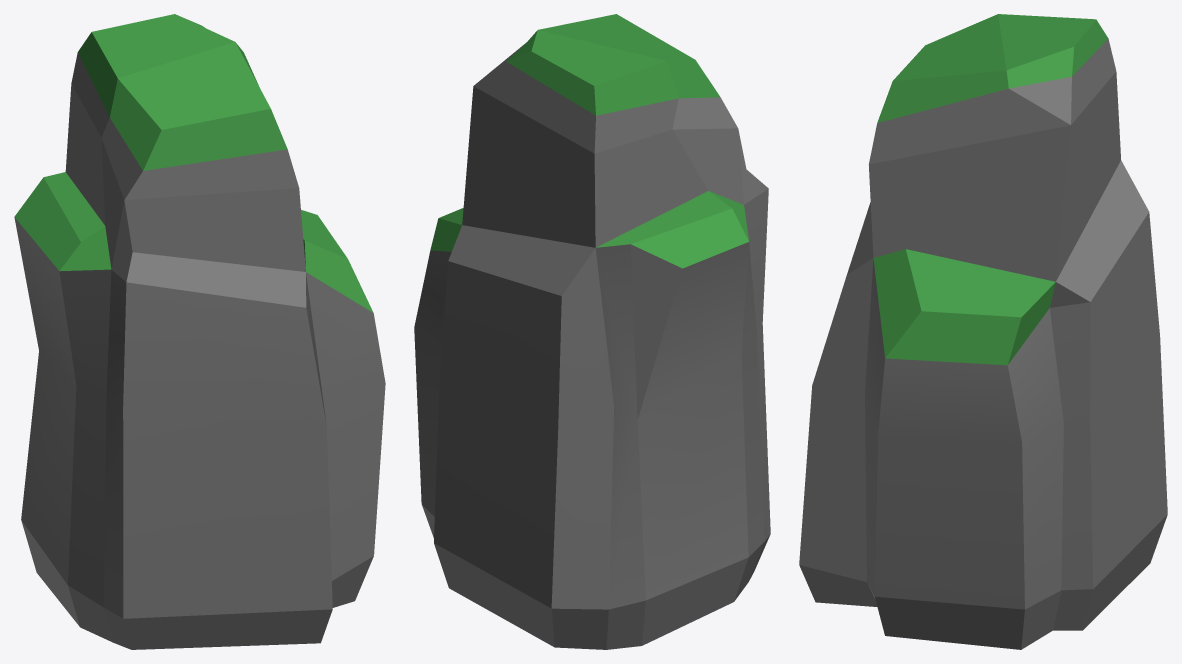
Rendered from Rock_A.fbx.
3 renders of one model, left to right at view 1: azimuth 30°, elevation 25°; view 2: azimuth 150°, elevation 25°; view 3: azimuth 270°, elevation 25°, orthographic. The views are drawn at different scales.
Parts seen in each view (by area): view 1: Rock_A; view 2: Rock_A; view 3: Rock_A.
Part boxes in pixels (x1=…): Rock_A: x1=14, y1=14, x2=385, y2=649; Rock_A: x1=414, y1=14, x2=770, y2=649; Rock_A: x1=799, y1=14, x2=1167, y2=649.
Size of the model in its own units: 439 by 748 by 456.
